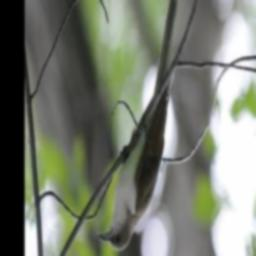Cuckoo: (99, 0, 184, 256)
